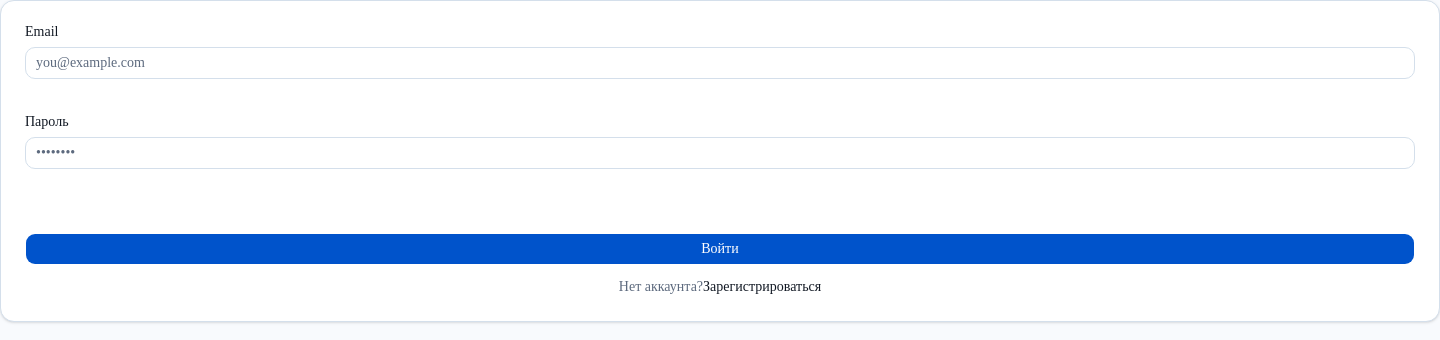
Test case: LoginForm › показывает ошибку при неудачном входе и не перенаправляет пользователя
Type "ivan@example.com" into the field labelled "Email" at (720, 63), box x1=25 y1=47 x2=1415 y2=79
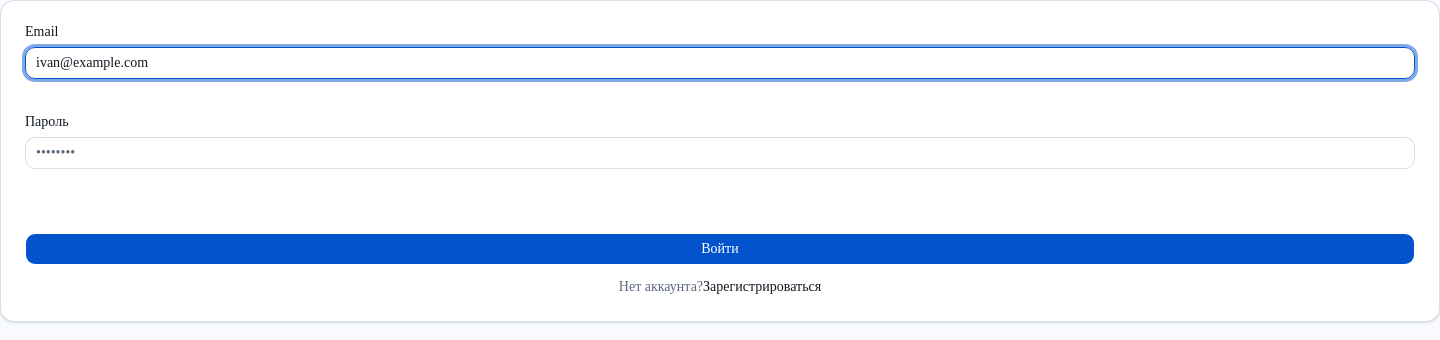
Type "invalid" into the password field labelled "Пароль" at (720, 153), box x1=25 y1=137 x2=1415 y2=169
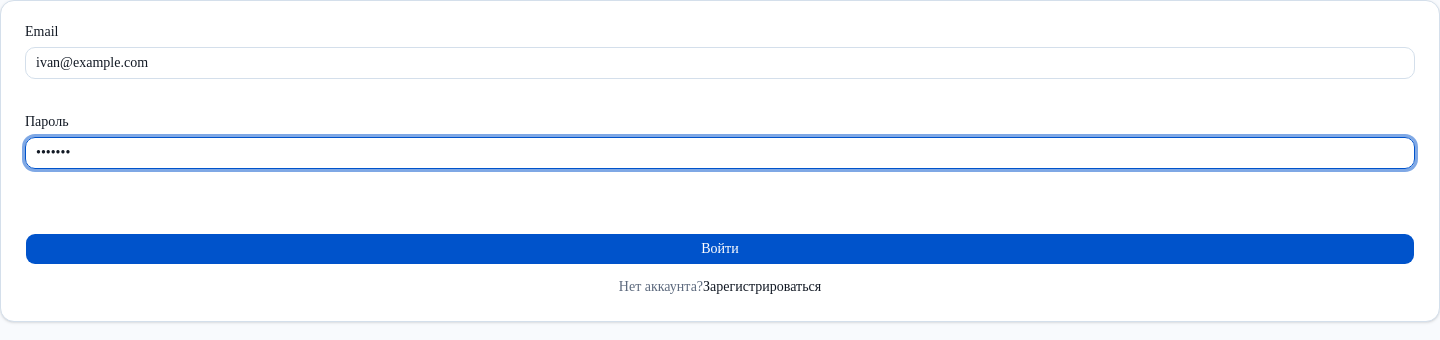
Click the button "Войти" at (720, 249), box x1=25 y1=233 x2=1415 y2=265
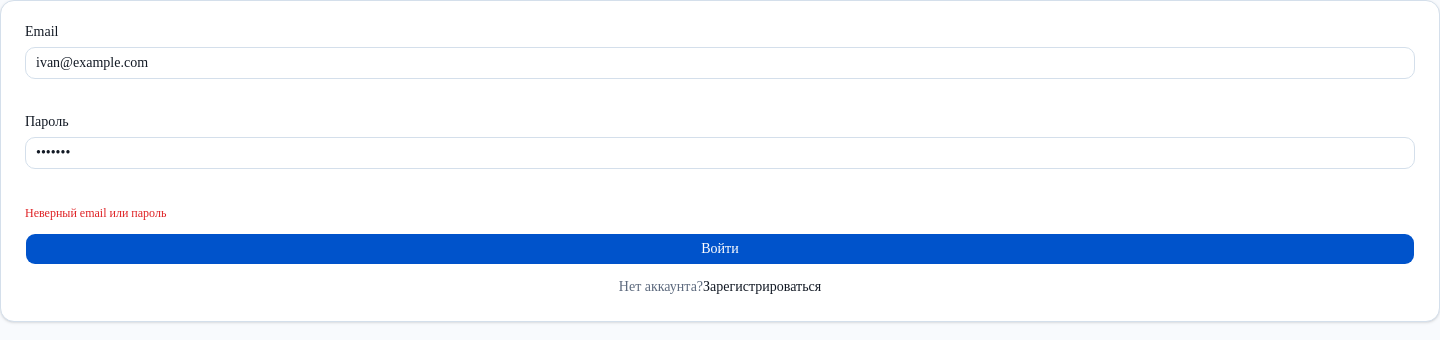
Expected: the text "Неверный email или пароль" is shown, x1=25 y1=206 x2=166 y2=220
